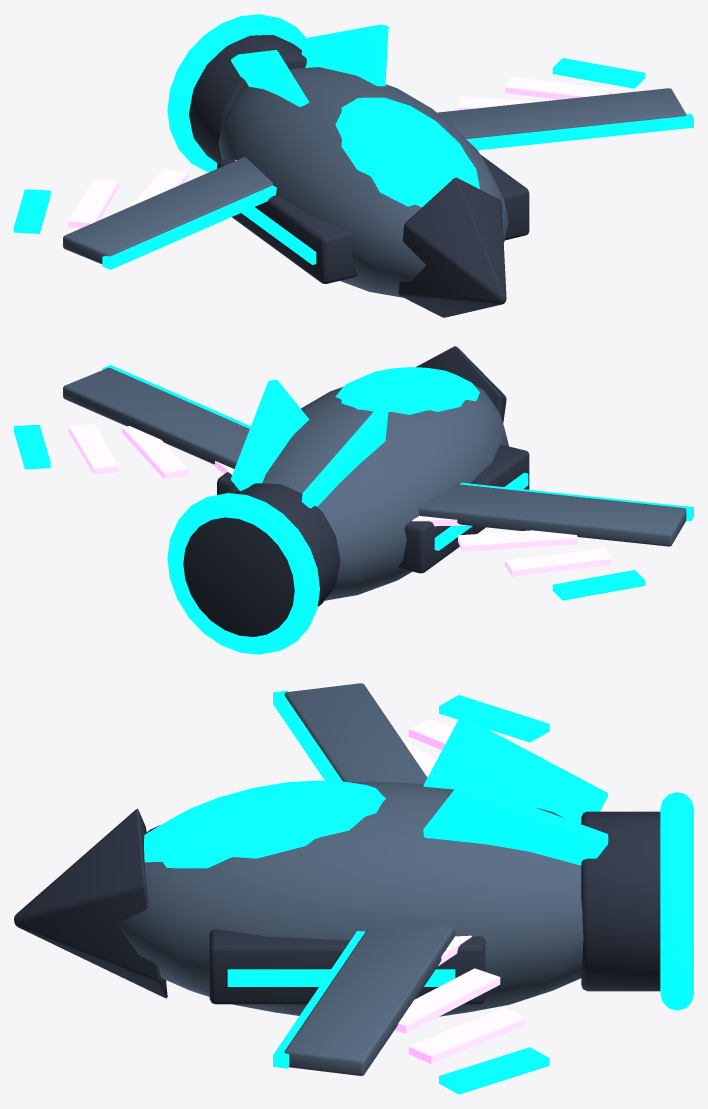
Rendered from mecha_bird.glb.
3 views of the same model, one above another, from view 1: azimuth 30°, elevation 25°; view 2: azimuth 150°, elevation 25°; view 3: azimuth 270°, elevation 25° (orthographic). The views are drawn at different scales.
Parts seen in each view (by area): view 1: Chassis, ChassisBeak, Visor, LeftWing_Spar, RightWing_Spar, ThrusterCore, ThrusterNozzle, IntakeCowl_L, RightWing, DorsalFin_R, LeftWing, RightWing_LeadingGlow (+4 smaller); view 2: Chassis, ThrusterNozzle, LeftWing_Spar, ThrusterCore, RightWing_Spar, LeftWing, Visor, RightWing, DorsalFin_R, IntakeCowl_L, DorsalFin_L, ChassisBeak (+3 smaller); view 3: Chassis, RightWing_Spar, ThrusterNozzle, Visor, ChassisBeak, DorsalFin_L, RightWing, LeftWing_Spar, IntakeCowl_R, DorsalFin_R, ThrusterCore, LeftWing (+3 smaller).
Part boxes in pixels (<box>): Chassis: <box>218,67,508,297</box>; ChassisBeak: <box>398,177,506,317</box>; Visor: <box>335,97,479,207</box>; LeftWing_Spar: <box>63,157,272,263</box>; RightWing_Spar: <box>437,88,686,138</box>; ThrusterCore: <box>167,14,305,172</box>; ThrusterNozzle: <box>189,35,306,162</box>; IntakeCowl_L: <box>217,158,357,283</box>; RightWing: <box>458,58,644,110</box>; DorsalFin_R: <box>301,24,388,86</box>; LeftWing: <box>14,160,236,233</box>; RightWing_LeadingGlow: <box>466,113,693,150</box>; Chassis: <box>228,385,508,600</box>; ThrusterNozzle: <box>183,483,340,636</box>; LeftWing_Spar: <box>418,484,686,546</box>; ThrusterCore: <box>167,493,319,654</box>; RightWing_Spar: <box>63,368,249,468</box>; LeftWing: <box>412,516,644,600</box>; Visor: <box>335,367,479,414</box>; RightWing: <box>14,423,234,479</box>; DorsalFin_R: <box>231,379,309,491</box>; IntakeCowl_L: <box>398,444,529,573</box>; DorsalFin_L: <box>301,405,388,508</box>; ChassisBeak: <box>416,346,506,423</box>; Chassis: <box>116,781,583,1016</box>; RightWing_Spar: <box>284,925,455,1075</box>; ThrusterNozzle: <box>581,811,660,991</box>; Visor: <box>144,780,385,868</box>; ChassisBeak: <box>14,808,167,998</box>; DorsalFin_L: <box>423,716,608,823</box>; RightWing: <box>395,935,549,1094</box>; LeftWing_Spar: <box>284,683,427,783</box>; IntakeCowl_R: <box>209,929,485,1004</box>; DorsalFin_R: <box>423,781,608,865</box>; ThrusterCore: <box>660,792,693,1010</box>; LeftWing: <box>404,695,549,777</box>.
Size of the model in its own units: 1.55 by 0.4706 by 1.13.
